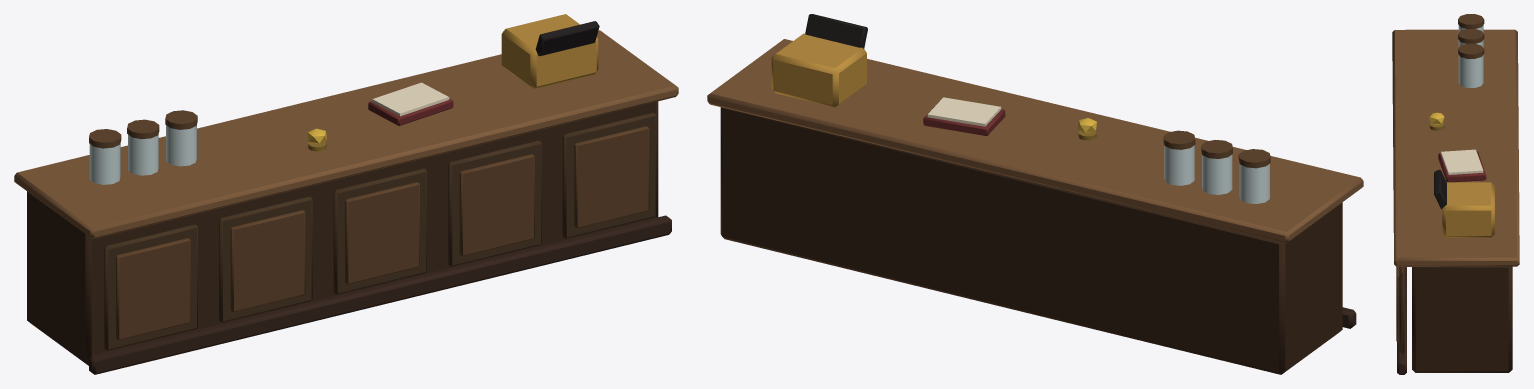
Rendered from shop_counter.glb.
The picture shows the model from 3 angles, left to right: view 1: azimuth 30°, elevation 25°; view 2: azimuth 150°, elevation 25°; view 3: azimuth 270°, elevation 25°; orthographic projection. The views are drawn at different scales.
Visible parts, largest first — view 1: shop_counter; view 2: shop_counter; view 3: shop_counter.
Boxes of the visible parts, box(x1,y1,x2,y2) form: shop_counter: box(14, 14, 678, 374); shop_counter: box(707, 14, 1363, 374); shop_counter: box(1392, 14, 1519, 374).
Bounding box in the file's own units: 4.32 × 1.45 × 1.01.
